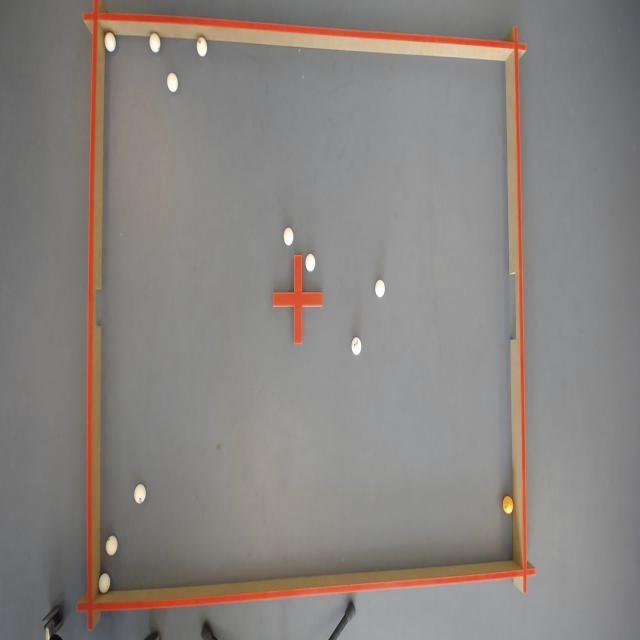orange-golf-balls: (503, 495, 514, 515)
white-golf-balls: (105, 535, 117, 556), (98, 573, 110, 594), (166, 71, 178, 91), (149, 31, 160, 51), (196, 35, 207, 55), (134, 484, 145, 504), (104, 31, 115, 50), (352, 335, 362, 355), (305, 252, 315, 271), (375, 279, 385, 297), (284, 226, 293, 244)
